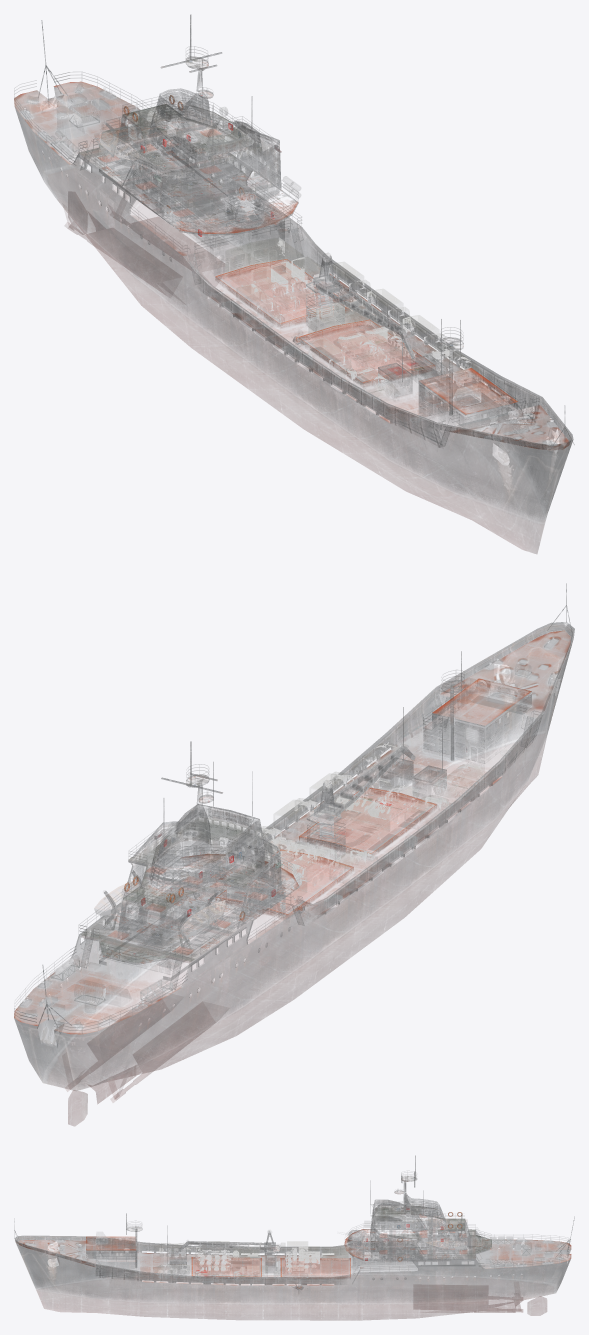
The model's file is alligatorclass.glb.
3 renders of one model, top to bottom at view 1: azimuth 30°, elevation 25°; view 2: azimuth 150°, elevation 25°; view 3: azimuth 270°, elevation 25°, orthographic. The views are drawn at different scales.
Parts seen in each view (by area): view 1: alligator; view 2: alligator; view 3: alligator.
Boxes of the visible parts, x1=… form: alligator: x1=14, y1=14, x2=574, y2=553; alligator: x1=14, y1=583, x2=574, y2=1125; alligator: x1=14, y1=1155, x2=574, y2=1320.
Size of the model in its own units: 2.27 by 5.14 by 16.34.
5 materials, 4 textured.
